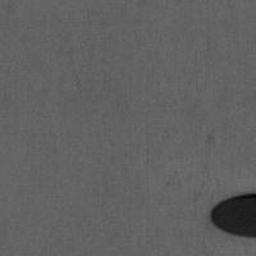Punching: (210, 193, 256, 238)
